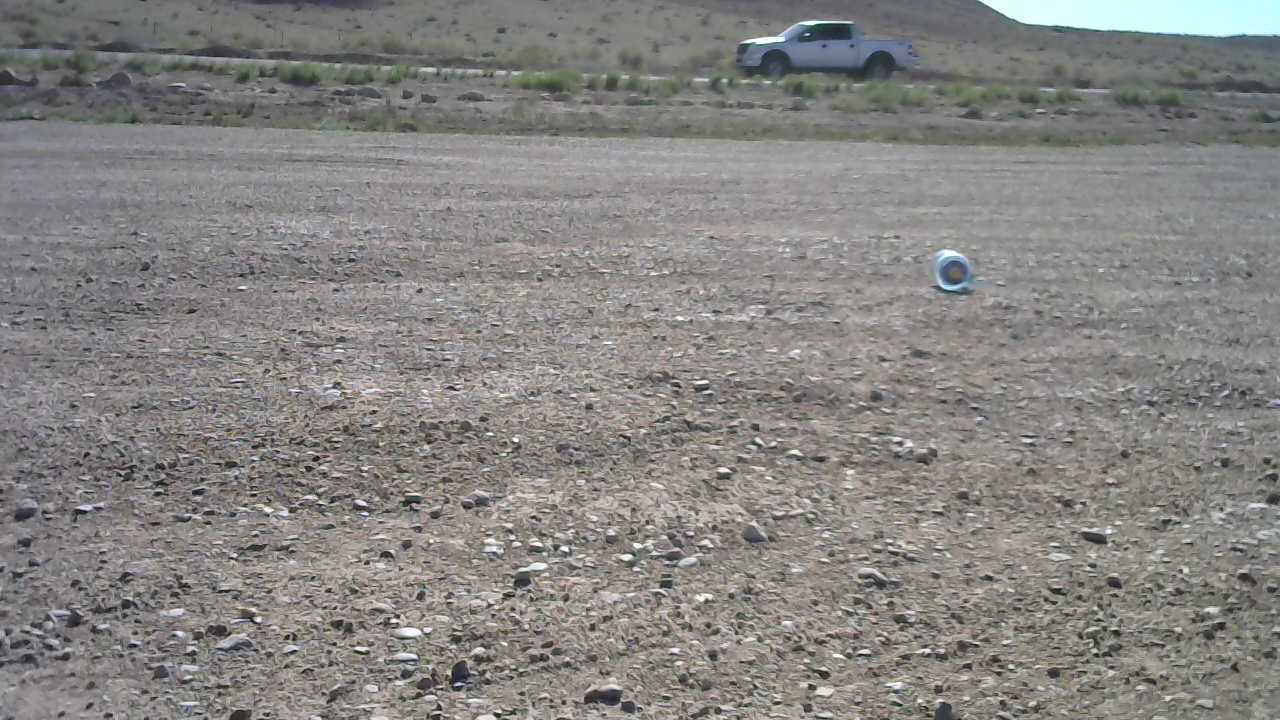bottle: (925, 238, 981, 291)
